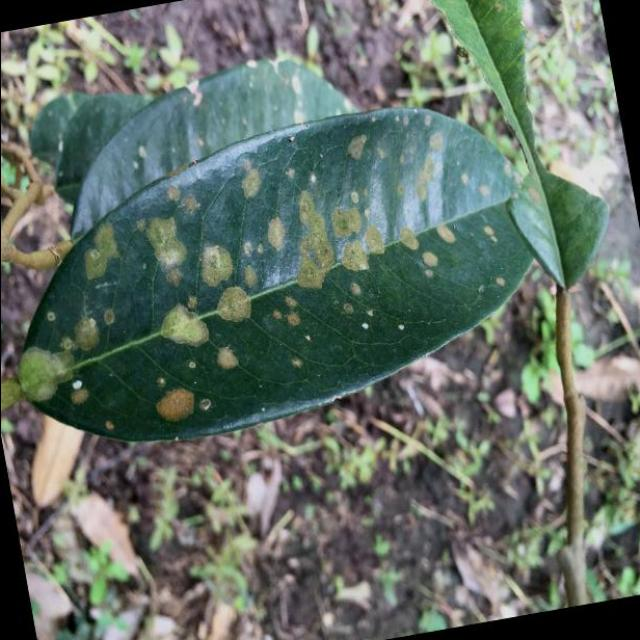Algal Leaf Spot: (0, 73, 582, 481)
